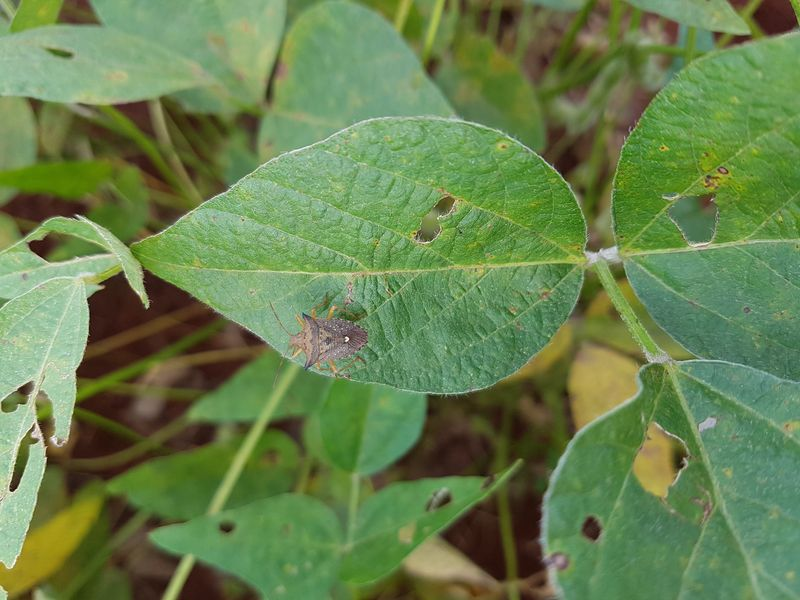Euschistus_heros_adulto: (258, 286, 378, 387)
